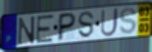E: (35, 14, 55, 45)
N: (17, 15, 36, 47)
P: (56, 12, 78, 43)
S: (119, 7, 138, 36), (77, 11, 95, 39)
U: (100, 7, 120, 38)
